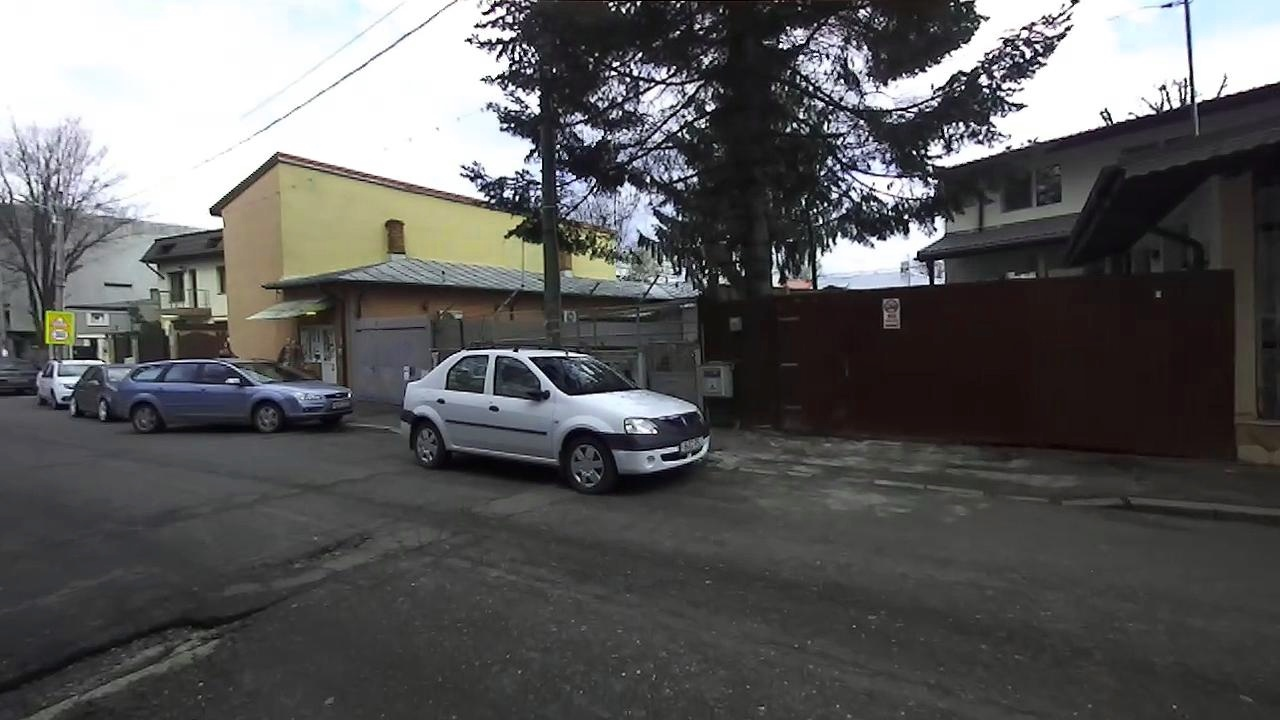pothole: (0, 587, 311, 717), (244, 522, 388, 577)
